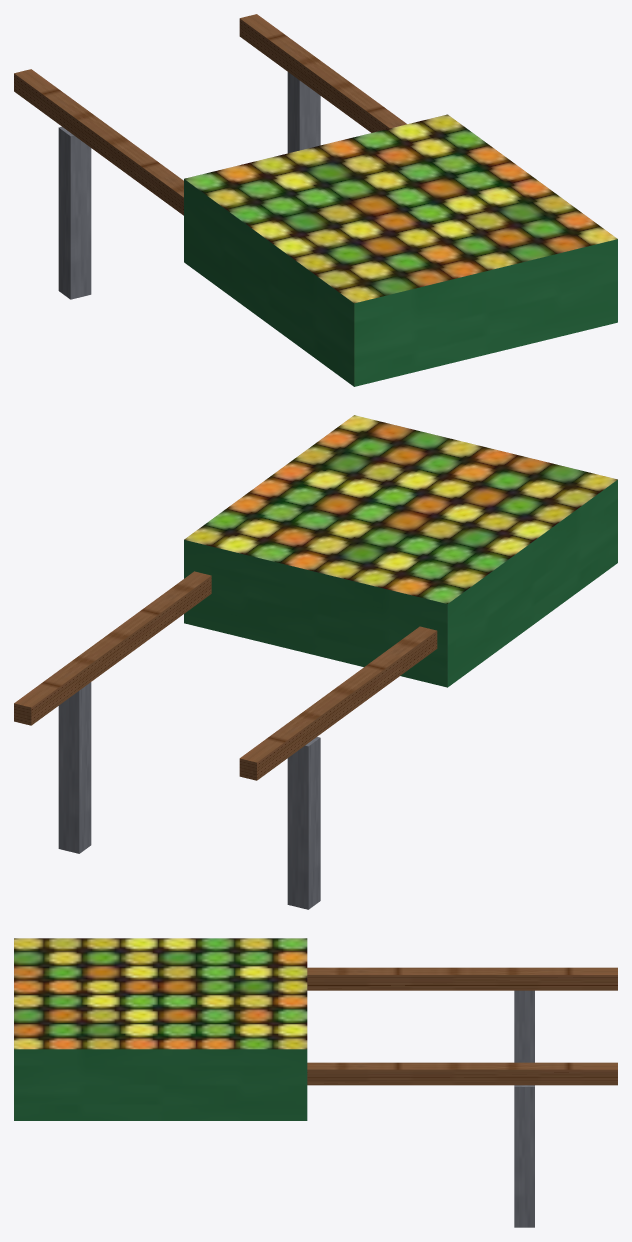
File: wheelbarrow-cream-far.glb
3 renders of one model, top to bottom at view 1: azimuth 30°, elevation 25°; view 2: azimuth 150°, elevation 25°; view 3: azimuth 270°, elevation 25°, orthographic. The views are drawn at different scales.
Parts seen in each view (by area): view 1: wheelbarrow-cream-far; view 2: wheelbarrow-cream-far; view 3: wheelbarrow-cream-far.
Part boxes in pixels (bbox=[...]): wheelbarrow-cream-far: bbox=[14, 14, 617, 386]; wheelbarrow-cream-far: bbox=[14, 415, 617, 909]; wheelbarrow-cream-far: bbox=[14, 938, 617, 1227].
Bounding box in the file's own units: 0.76 × 0.58 × 1.75.
1 material, 1 textured.
